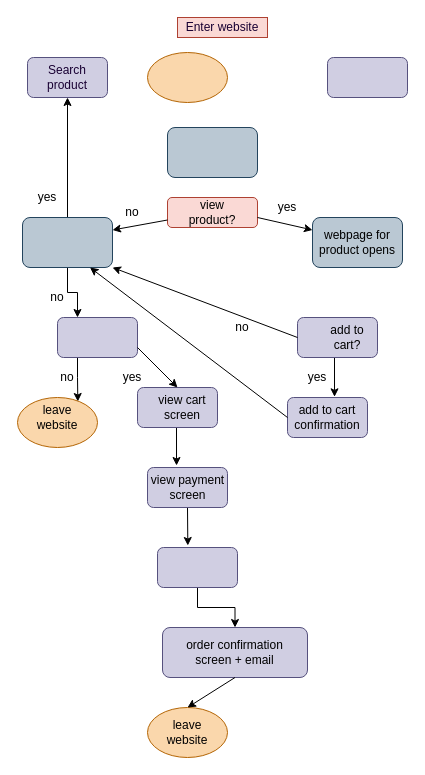
Some shapes in this 425 by 775 pixel diagram are drawn without their labels. Each missing label, with the centre of its shape:
"checkout?" belongs at [97,337].
"continue shopping?" belongs at [67,242].
"explore product" belongs at [367,77].
"look over products" belongs at [212,152].
"payment info input" belongs at [197,567].
"provide input to site" belongs at [187,77].
